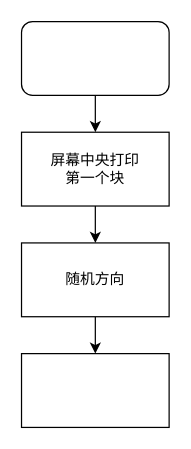
Some shapes in this 191 by 449 pixel diagram are drawn without their labels. The centre of each missing label's shape, as x and y in pixels:
"start" belongs at point 94,57.
"延迟1S" belongs at point 94,389.
